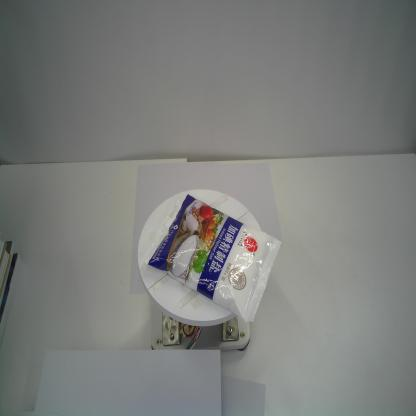Seasoner: (141, 189, 283, 324)
